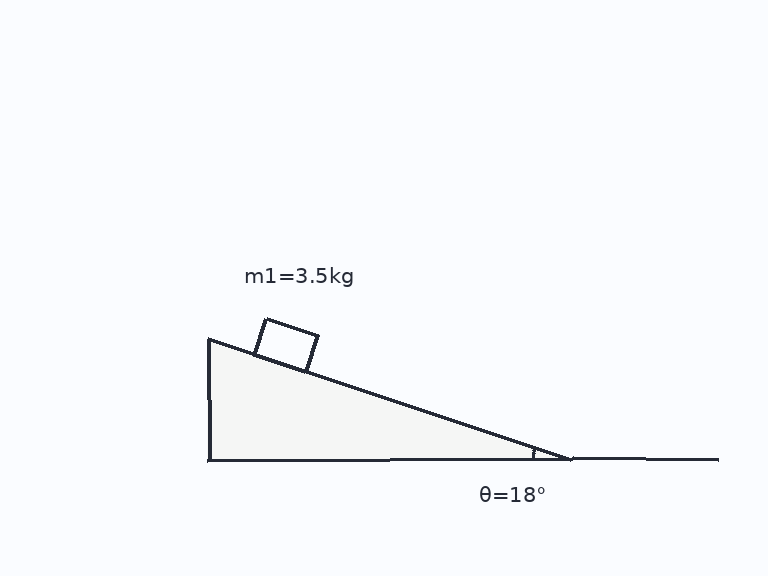block: (252, 316, 319, 374)
ramp: (206, 338, 575, 461)
